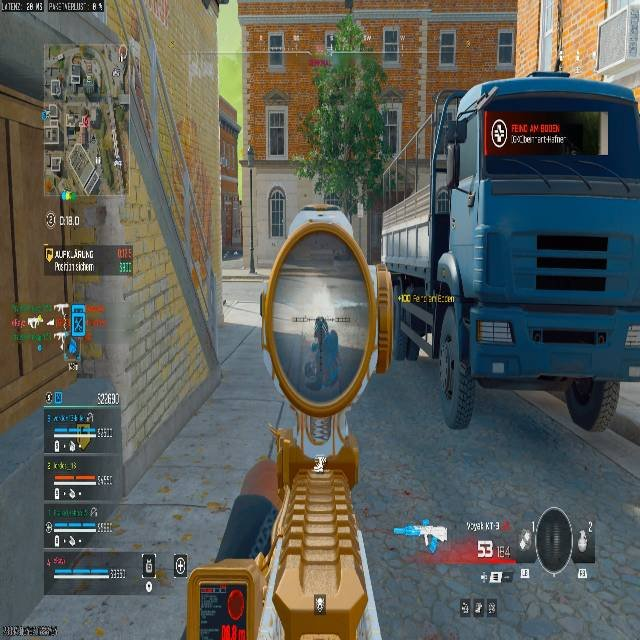player: (312, 316, 328, 345)
